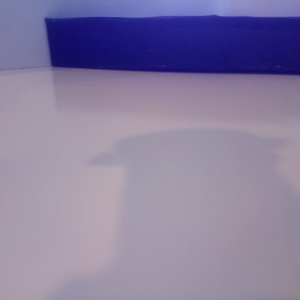zone: (44, 15, 300, 75)
